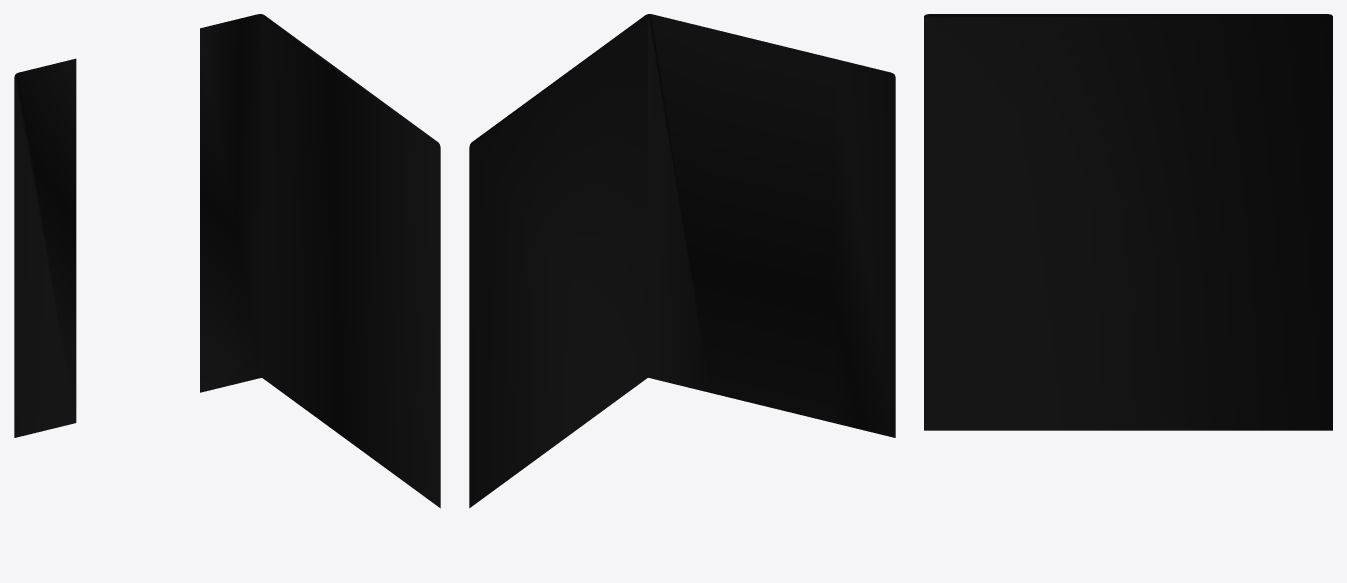
Rendered from scene_skybox_south.glb.
The picture shows the model from 3 angles, left to right: view 1: azimuth 30°, elevation 25°; view 2: azimuth 150°, elevation 25°; view 3: azimuth 270°, elevation 25°; orthographic projection. The views are drawn at different scales.
Parts seen in each view (by area): view 1: scene-skybox-south; view 2: scene-skybox-south; view 3: scene-skybox-south.
Boxes of the visible parts, x1=… form: scene-skybox-south: x1=14, y1=14, x2=440, y2=508; scene-skybox-south: x1=469, y1=14, x2=895, y2=508; scene-skybox-south: x1=924, y1=14, x2=1332, y2=430.
Bounding box in the file's own units: 64 × 90 × 80.
1 material, 1 textured.
